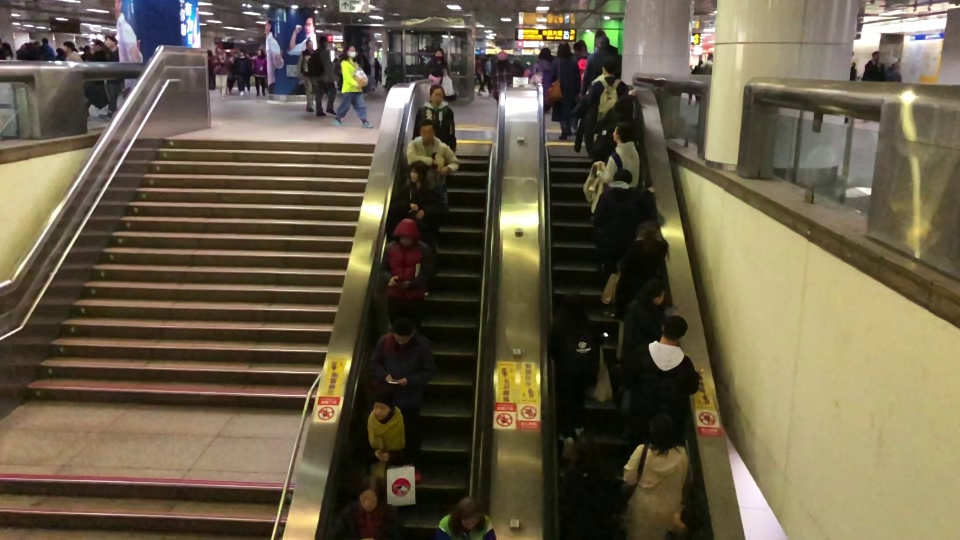person_head: (354, 473, 383, 511), (670, 500, 703, 530), (574, 437, 604, 469), (648, 413, 677, 446), (659, 314, 688, 346), (456, 495, 484, 528), (369, 388, 393, 422), (390, 217, 418, 246), (642, 278, 667, 305), (389, 314, 413, 341), (559, 290, 585, 312), (634, 221, 661, 242), (612, 96, 635, 119), (612, 121, 634, 144), (407, 158, 426, 183), (417, 117, 436, 139), (612, 167, 634, 185), (427, 82, 445, 102), (601, 54, 617, 73), (556, 41, 572, 57), (595, 37, 608, 52), (106, 35, 118, 50), (345, 43, 357, 57), (61, 41, 74, 53), (538, 46, 551, 58), (888, 55, 901, 67), (496, 50, 508, 61), (434, 48, 443, 61), (89, 40, 100, 50), (317, 34, 326, 46), (2, 41, 11, 53), (305, 39, 314, 50), (871, 50, 880, 61), (256, 47, 265, 57), (215, 43, 223, 53), (697, 59, 703, 67), (239, 49, 245, 56), (41, 37, 48, 43), (707, 52, 712, 59)
person_vbox: (369, 313, 437, 483), (621, 412, 688, 540), (615, 278, 668, 439), (632, 314, 700, 438), (612, 220, 668, 364), (549, 289, 601, 441), (391, 158, 445, 298), (405, 117, 459, 253), (592, 167, 655, 263), (380, 218, 434, 327), (358, 388, 414, 491), (409, 83, 457, 201), (330, 472, 407, 540), (331, 43, 374, 129), (582, 54, 628, 126), (590, 88, 636, 160), (593, 121, 641, 182), (436, 494, 498, 540), (551, 41, 579, 139), (306, 33, 337, 118), (98, 35, 120, 119), (579, 36, 610, 95), (527, 46, 553, 108), (86, 42, 105, 118), (297, 37, 316, 113), (490, 50, 514, 101), (211, 42, 229, 103), (423, 48, 450, 83), (861, 48, 884, 82), (235, 48, 251, 96), (252, 47, 267, 96), (884, 53, 902, 82), (690, 59, 702, 102), (40, 37, 55, 60), (701, 50, 713, 73)
